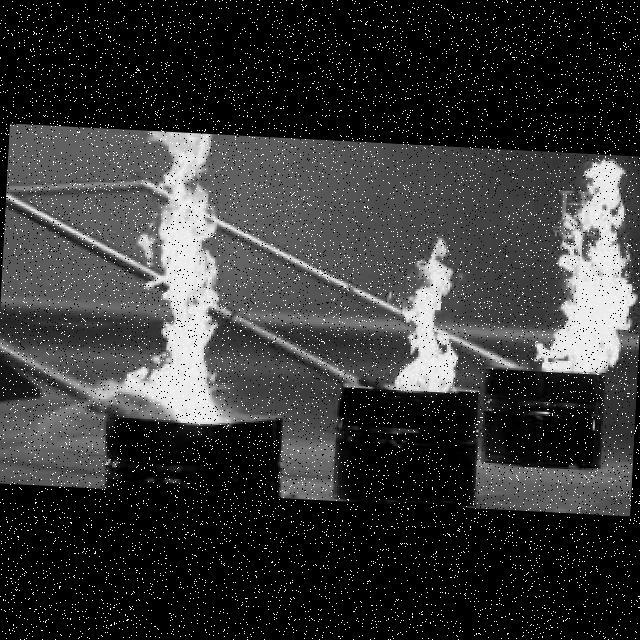Fire: (103, 135, 237, 419), (527, 157, 640, 378), (385, 236, 467, 398)
